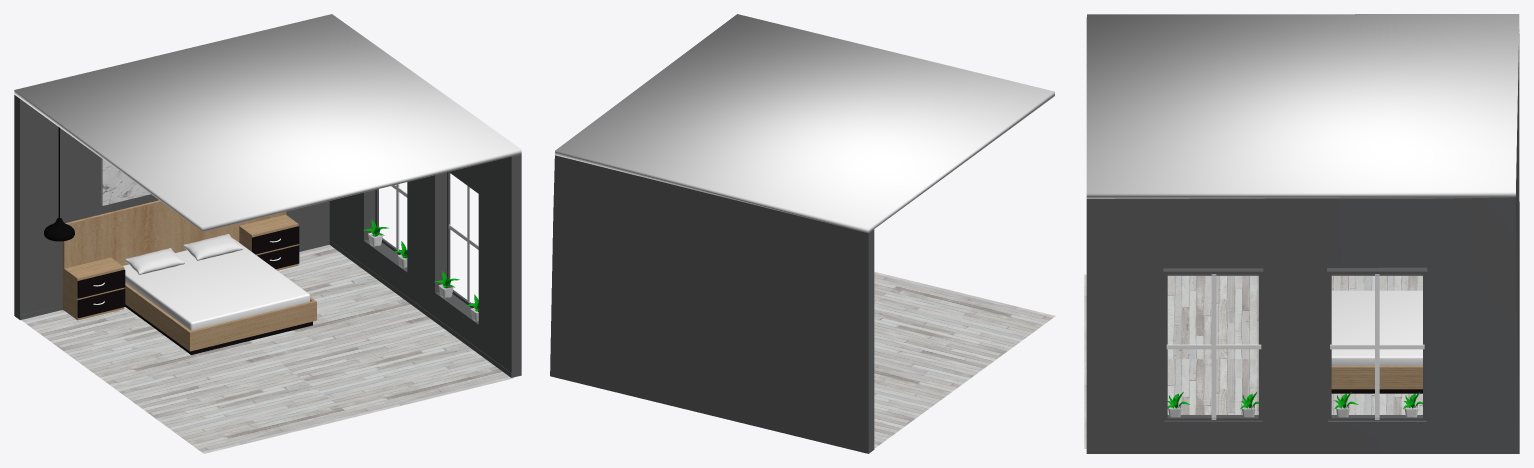
File: bedroom.glb
3 views of the same model, side by side, from view 1: azimuth 30°, elevation 25°; view 2: azimuth 150°, elevation 25°; view 3: azimuth 270°, elevation 25° (orthographic). The views are drawn at different scales.
Parts seen in each view (by area): view 1: pPlane2, pPlane1, pCube8, ChamferBox002, ChamferBox002.001, ChamferBox002.002, ChamferBox002.005, ChamferBox002.003, pCube9, ChamferBox002.008, _Bed_Pillow_v2, _Bed_Pillow_v1 (+6 smaller); view 2: pCube8, pPlane2, pPlane1; view 3: pCube8, pPlane2, pPlane1, ChamferBox002, ChamferBox002.002, pCube8.004, pCube8.001, pCube8.003, pCube8.002, ChamferBox002.004.
Part boxes in pixels (x1=…): pPlane2: x1=14, y1=14, x2=521, y2=231; pPlane1: x1=21, y1=244, x2=513, y2=453; pCube8: x1=14, y1=95, x2=521, y2=377; ChamferBox002: x1=123, y1=239, x2=310, y2=330; ChamferBox002.001: x1=62, y1=200, x2=286, y2=310; ChamferBox002.002: x1=188, y1=297, x2=316, y2=351; ChamferBox002.005: x1=64, y1=257, x2=124, y2=320; ChamferBox002.003: x1=124, y1=283, x2=190, y2=349; pCube9: x1=101, y1=158, x2=150, y2=205; ChamferBox002.008: x1=239, y1=214, x2=298, y2=270; _Bed_Pillow_v2: x1=183, y1=234, x2=243, y2=260; _Bed_Pillow_v1: x1=125, y1=248, x2=184, y2=274; pCube8: x1=550, y1=155, x2=874, y2=453; pPlane2: x1=555, y1=14, x2=1054, y2=233; pPlane1: x1=874, y1=271, x2=1055, y2=448; pCube8: x1=1086, y1=33, x2=1519, y2=453; pPlane2: x1=1086, y1=14, x2=1519, y2=198; pPlane1: x1=1084, y1=274, x2=1422, y2=448; ChamferBox002: x1=1331, y1=290, x2=1422, y2=365; ChamferBox002.002: x1=1331, y1=366, x2=1422, y2=389; pCube8.004: x1=1211, y1=274, x2=1216, y2=419; pCube8.001: x1=1375, y1=274, x2=1379, y2=419; pCube8.003: x1=1166, y1=344, x2=1261, y2=349; pCube8.002: x1=1330, y1=344, x2=1424, y2=349; ChamferBox002.004: x1=1331, y1=389, x2=1422, y2=393.
Size of the model in its own units: 1.25 by 0.826 by 1.25.
Materials: 12 (4 with a texture image).
